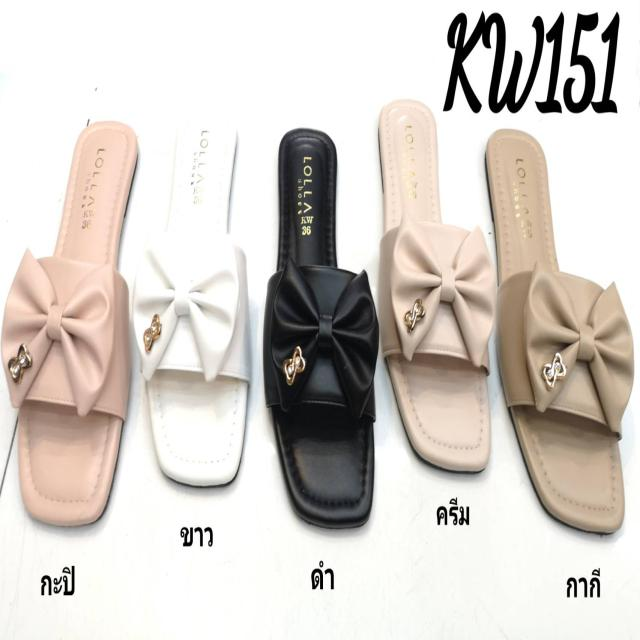black: (270, 138, 374, 520)
cream: (378, 109, 488, 472)
kakee: (487, 124, 625, 530)
kapi: (16, 114, 136, 522)
white: (151, 110, 248, 490)
